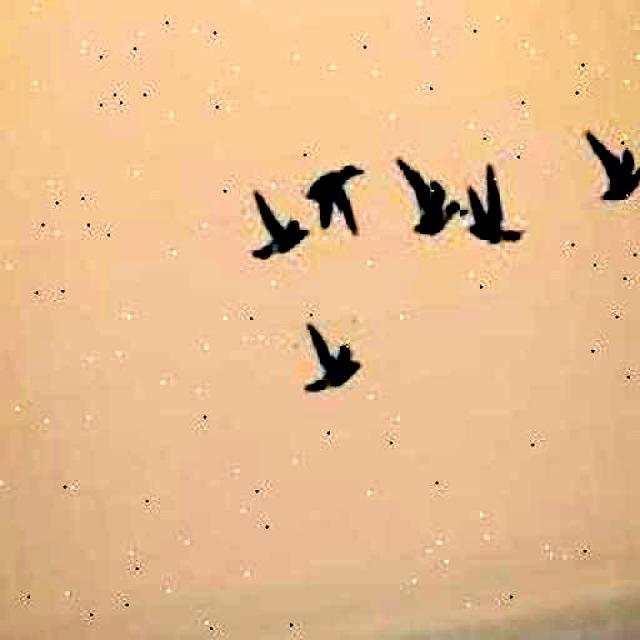airplane: (395, 142, 471, 239), (452, 158, 529, 250), (300, 160, 374, 240), (240, 181, 312, 261), (292, 314, 364, 394), (582, 116, 640, 204)
